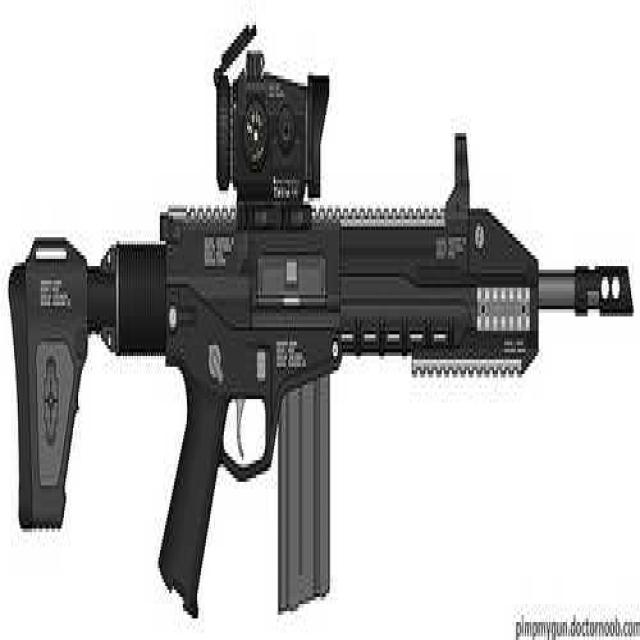RifleTel: (9, 2, 636, 638)
